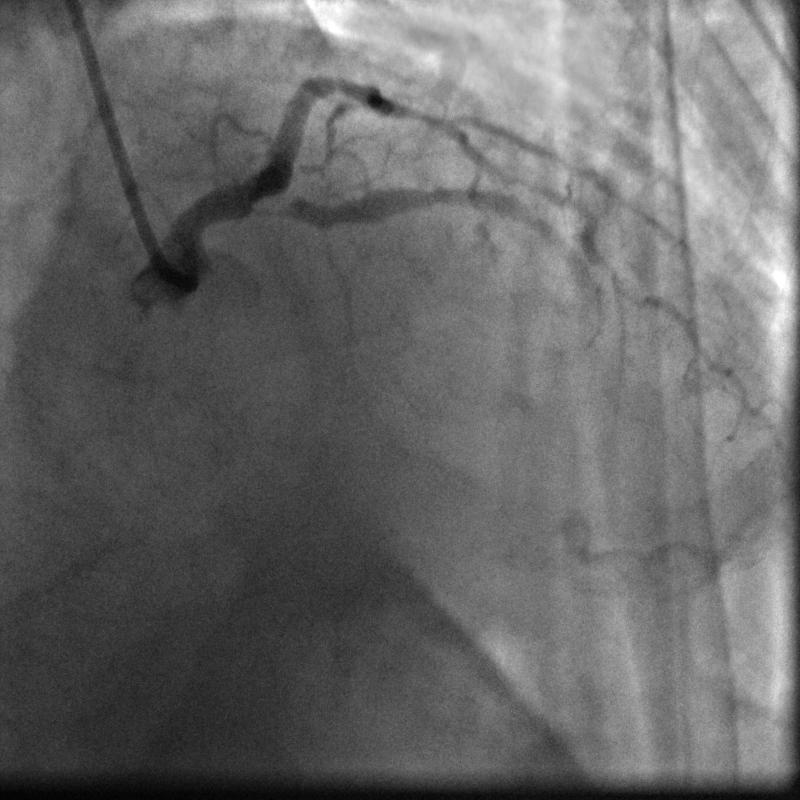Stenosis: (262, 184, 298, 226)
